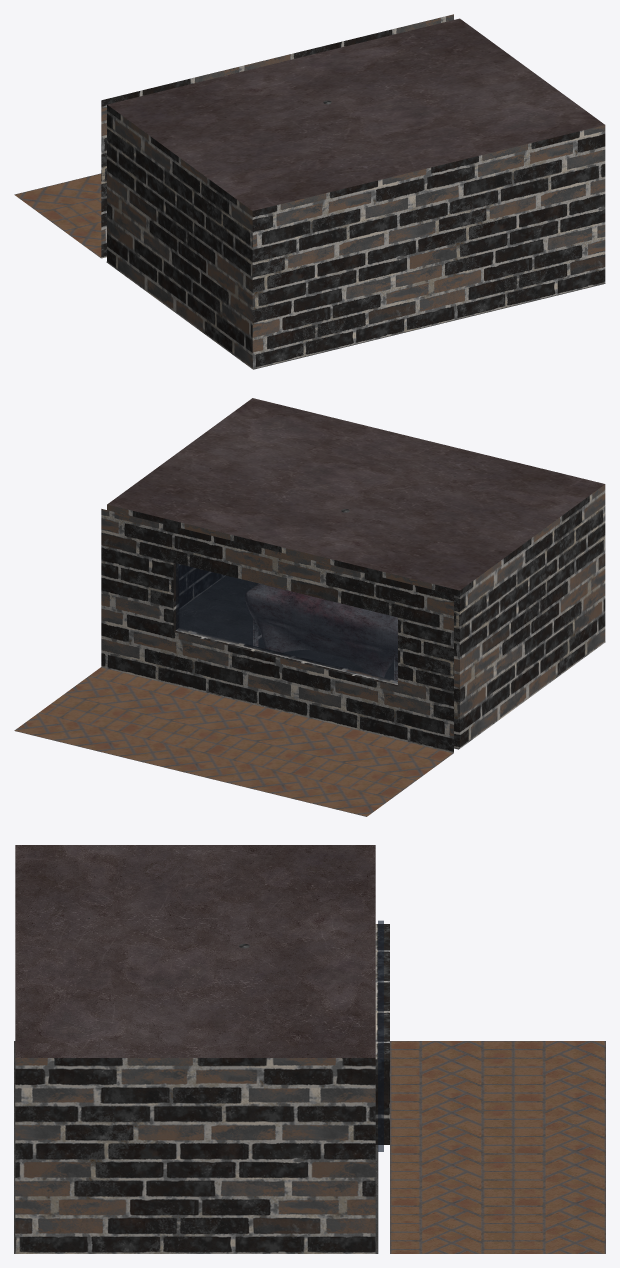
File: Room1.glb
The picture shows the model from 3 angles, top to bottom: view 1: azimuth 30°, elevation 25°; view 2: azimuth 150°, elevation 25°; view 3: azimuth 270°, elevation 25°; orthographic projection. The views are drawn at different scales.
Visible parts, largest first — view 1: Room, Roof; view 2: Room, Roof, Glass, Cloth, Floor; view 3: Room, Roof, Glass, Floor.
Boxes of the visible parts, x1,y1,x2,y2 form: Room: (14, 14, 605, 369); Roof: (107, 18, 604, 210); Room: (14, 484, 605, 816); Roof: (107, 398, 604, 590); Glass: (176, 563, 397, 683); Cloth: (245, 584, 397, 677); Floor: (179, 576, 459, 749); Room: (15, 924, 605, 1253); Roof: (15, 845, 375, 1057); Glass: (378, 920, 383, 1151); Floor: (14, 1041, 378, 1253).
Size of the model in its own units: 700 by 302 by 822.
Materials: 7 (6 with a texture image).
